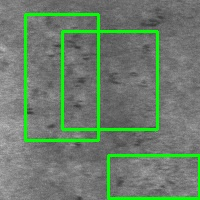rolled-in_scale: (62, 31, 157, 129), (25, 14, 98, 140), (108, 155, 199, 198)
